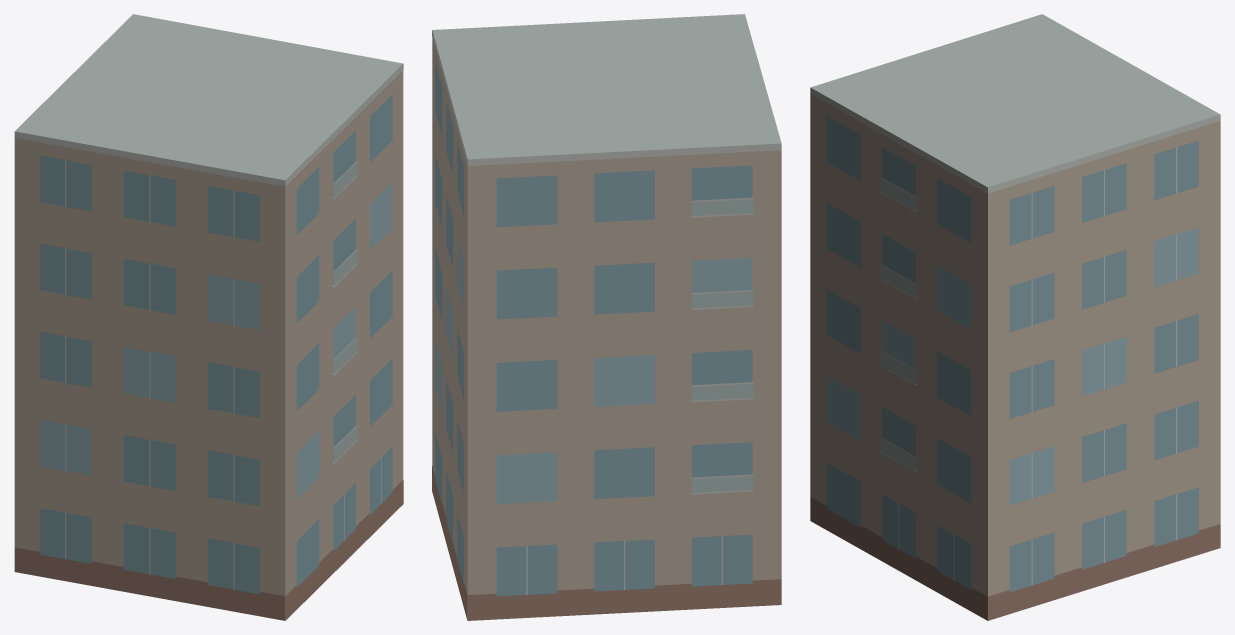
File: survey-upis-32596920.glb
3 views of the same model, side by side, from view 1: azimuth 30°, elevation 25°; view 2: azimuth 150°, elevation 25°; view 3: azimuth 270°, elevation 25° (orthographic). The views are drawn at different scales.
Parts seen in each view (by area): view 1: survey-upis-32596920.tmp; view 2: survey-upis-32596920.tmp; view 3: survey-upis-32596920.tmp.
Boxes of the visible parts, x1,y1,x2,y2 form: survey-upis-32596920.tmp: [14, 14, 403, 620]; survey-upis-32596920.tmp: [432, 14, 781, 620]; survey-upis-32596920.tmp: [810, 14, 1220, 620].
Bounding box in the file's own units: 14.42 × 16.8 × 14.42.
